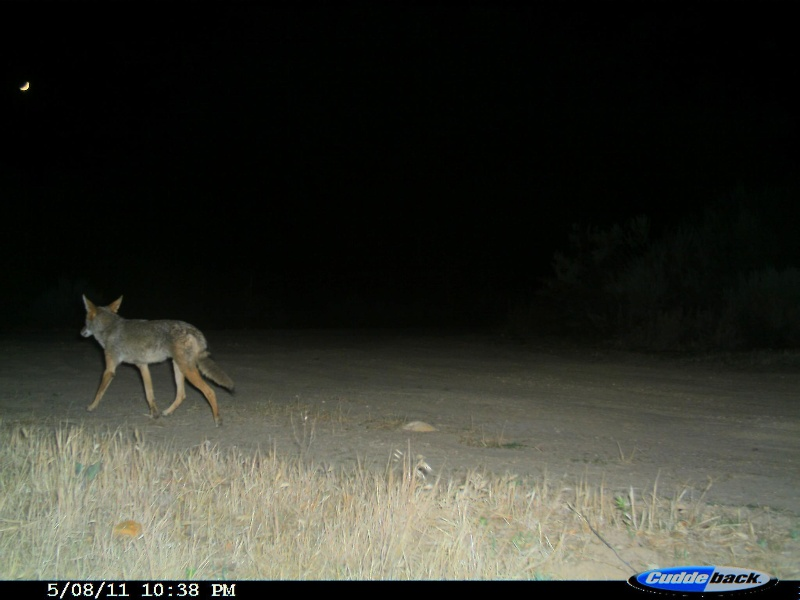coyote: (78, 291, 239, 434)
